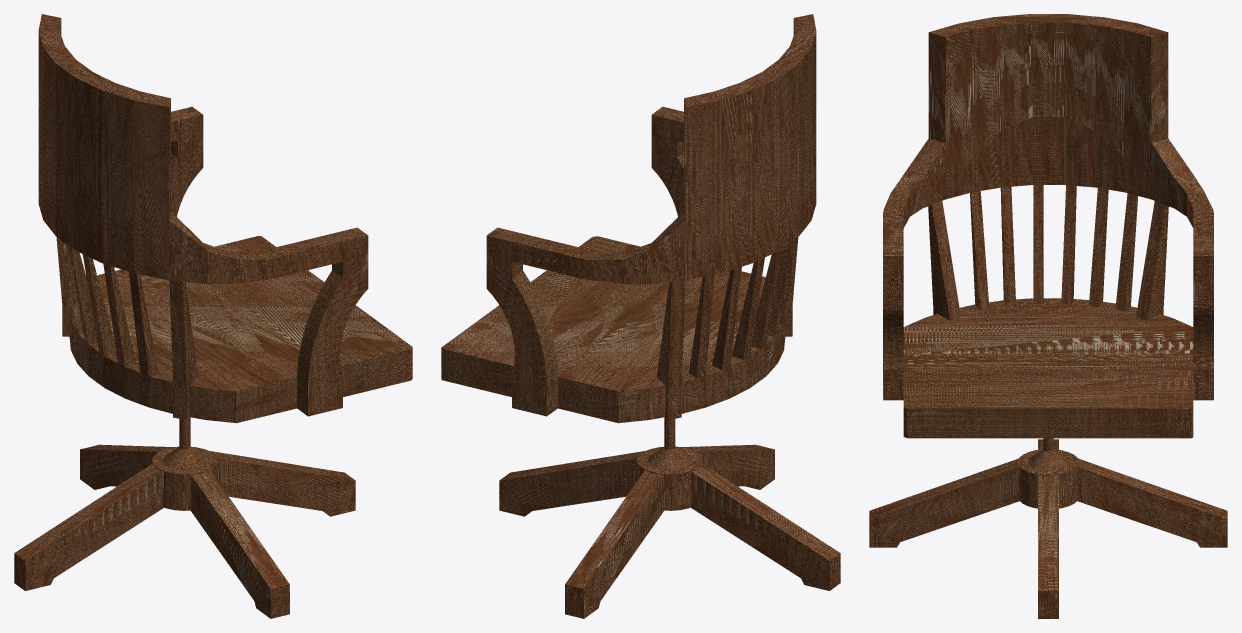
3 renders of one model, left to right at view 1: azimuth 30°, elevation 25°; view 2: azimuth 150°, elevation 25°; view 3: azimuth 270°, elevation 25°, orthographic. The views are drawn at different scales.
Visible parts, largest first — view 1: mesh1.001_mesh1-geometry; view 2: mesh1.001_mesh1-geometry; view 3: mesh1.001_mesh1-geometry.
Boxes of the visible parts, x1,y1,x2,y2 form: mesh1.001_mesh1-geometry: (14,14,412,618); mesh1.001_mesh1-geometry: (441,14,840,618); mesh1.001_mesh1-geometry: (869,14,1227,618).
Size of the model in its own units: 0.4917 by 0.7186 by 0.4917.
